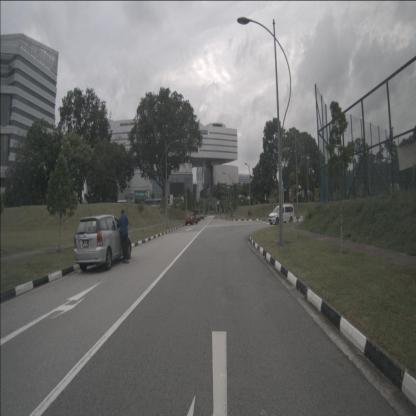human-pedestrian-adult: (116, 209, 130, 263)
vehicle-bus-rigid: (144, 197, 184, 213)
vehicle-car: (74, 214, 132, 272), (268, 204, 295, 225), (185, 212, 198, 226), (192, 209, 200, 221), (198, 210, 204, 219)
